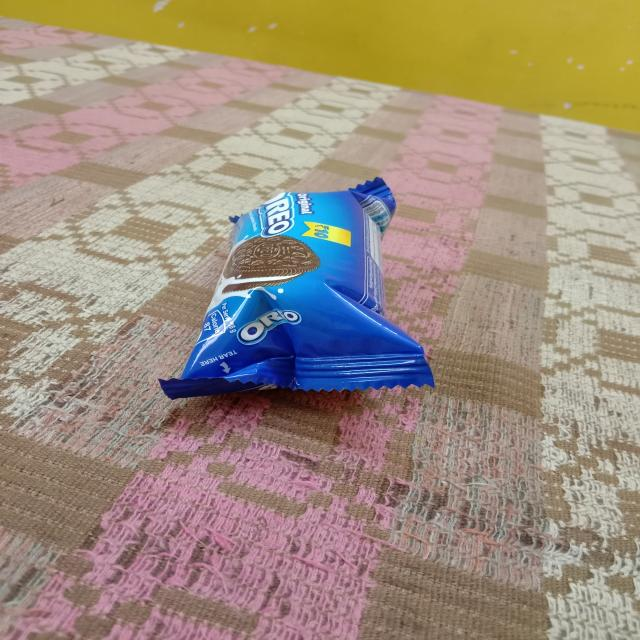oreo biscuit: (156, 178, 434, 410)
